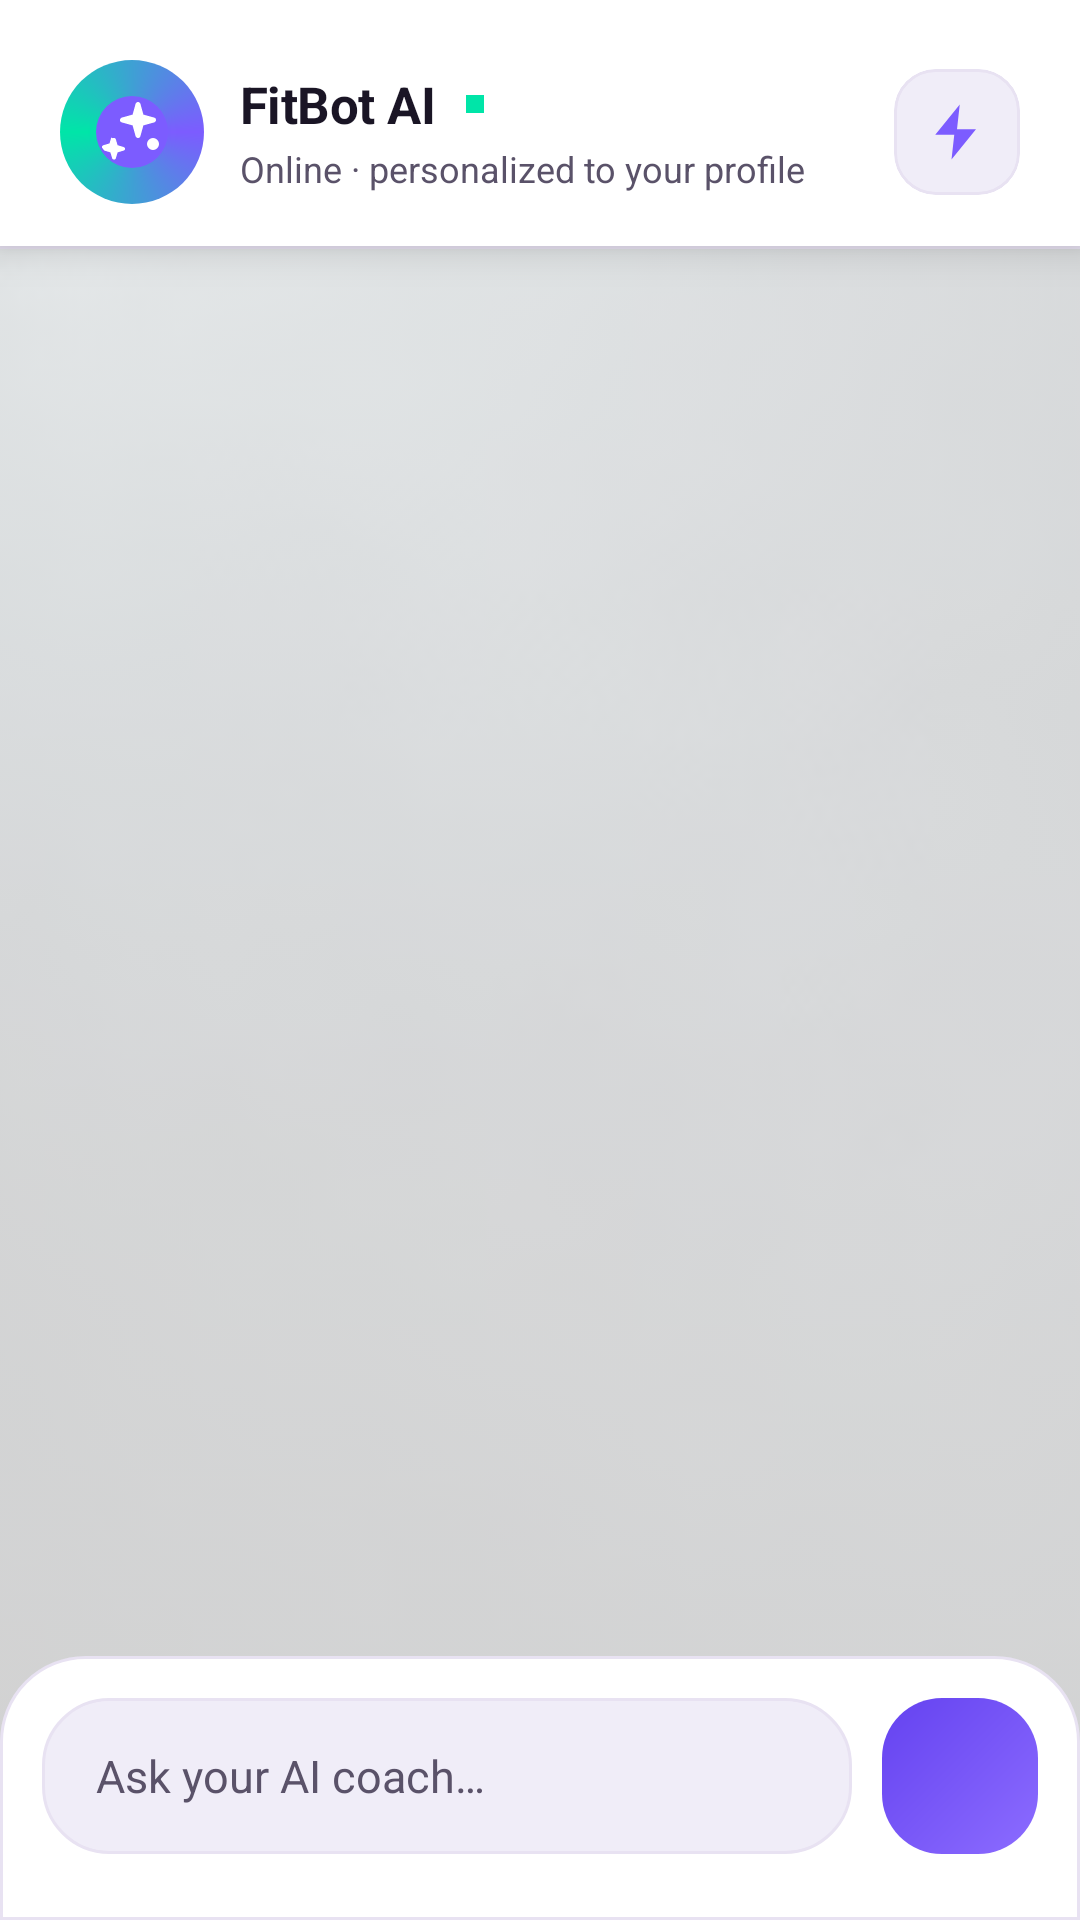

Locate icon controls on the screen. Image size 1080*1920, boxes as (x1, y1, x2, y2).
lightning: (894, 69, 1020, 195)
